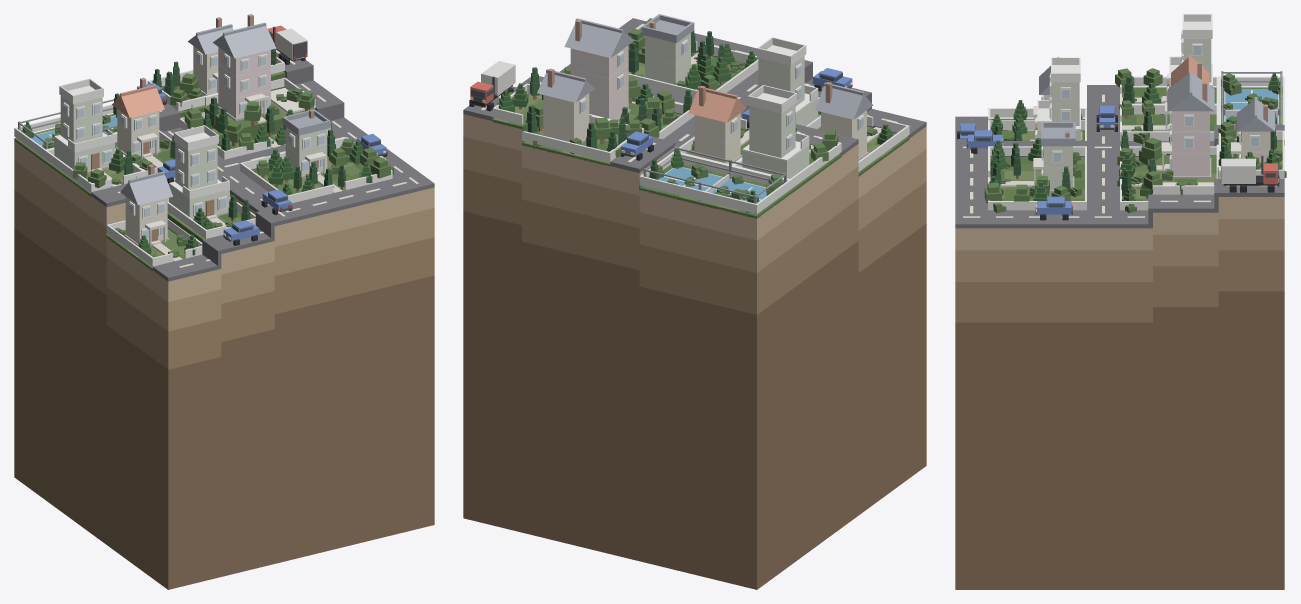
The model's file is block_5_engineered_40.glb.
3 views of the same model, side by side, from view 1: azimuth 30°, elevation 25°; view 2: azimuth 150°, elevation 25°; view 3: azimuth 270°, elevation 25° (orthographic). The views are drawn at different scales.
Parts seen in each view (by area): view 1: Patch_UpperLeft_b07_ES, Bungalows_UpperLeft_b07_ES, Roads_UpperLeft_b07_ES, ULCar_019_ES, LawnSkirt_UpperLeft_b07_ES, RoadMarks_UpperLeft_b07_ES, ULCar_004_ES, ULCar_018_ES; view 2: Patch_UpperLeft_b07_ES, Bungalows_UpperLeft_b07_ES, Roads_UpperLeft_b07_ES, ULCar_019_ES, ULCar_017_ES; view 3: Patch_UpperLeft_b07_ES, Bungalows_UpperLeft_b07_ES, Roads_UpperLeft_b07_ES, ULCar_019_ES, RoadMarks_UpperLeft_b07_ES, ULCar_020_ES, ULCar_018_ES, ULCar_008_ES.
Part boxes in pixels (x1,y1,x2,y2): Patch_UpperLeft_b07_ES: (14, 140, 434, 589); Bungalows_UpperLeft_b07_ES: (14, 14, 392, 270); Roads_UpperLeft_b07_ES: (91, 52, 434, 281); ULCar_019_ES: (268, 25, 307, 64); LawnSkirt_UpperLeft_b07_ES: (16, 72, 285, 267); RoadMarks_UpperLeft_b07_ES: (117, 49, 418, 270); ULCar_004_ES: (223, 220, 259, 245); ULCar_018_ES: (261, 189, 292, 214); Patch_UpperLeft_b07_ES: (463, 114, 926, 589); Bungalows_UpperLeft_b07_ES: (492, 14, 909, 218); Roads_UpperLeft_b07_ES: (463, 18, 926, 172); ULCar_019_ES: (469, 61, 515, 111); ULCar_017_ES: (621, 131, 653, 160); Patch_UpperLeft_b07_ES: (955, 197, 1284, 589); Bungalows_UpperLeft_b07_ES: (988, 14, 1284, 210); Roads_UpperLeft_b07_ES: (955, 85, 1284, 228); ULCar_019_ES: (1220, 155, 1279, 192); RoadMarks_UpperLeft_b07_ES: (963, 94, 1276, 217); ULCar_020_ES: (1035, 196, 1072, 220); ULCar_018_ES: (966, 130, 1003, 153); ULCar_008_ES: (1096, 105, 1117, 131).
Size of the model in its own units: 9.61 by 15.01 by 9.56.
